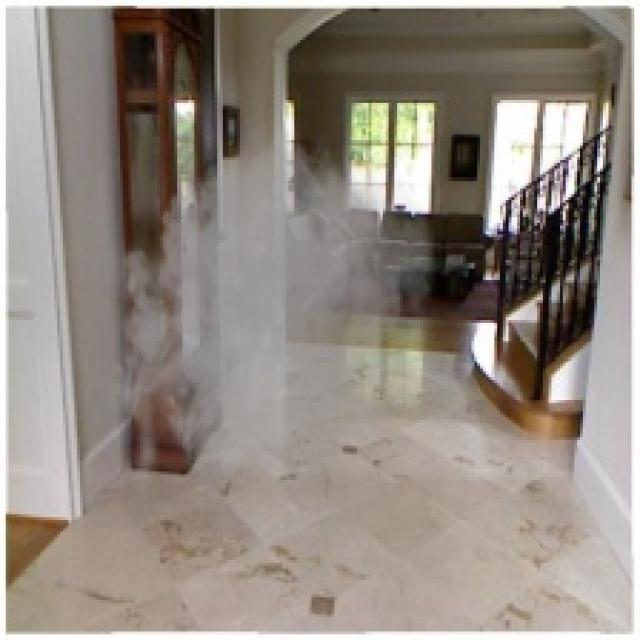Smoke: (97, 117, 446, 512)
